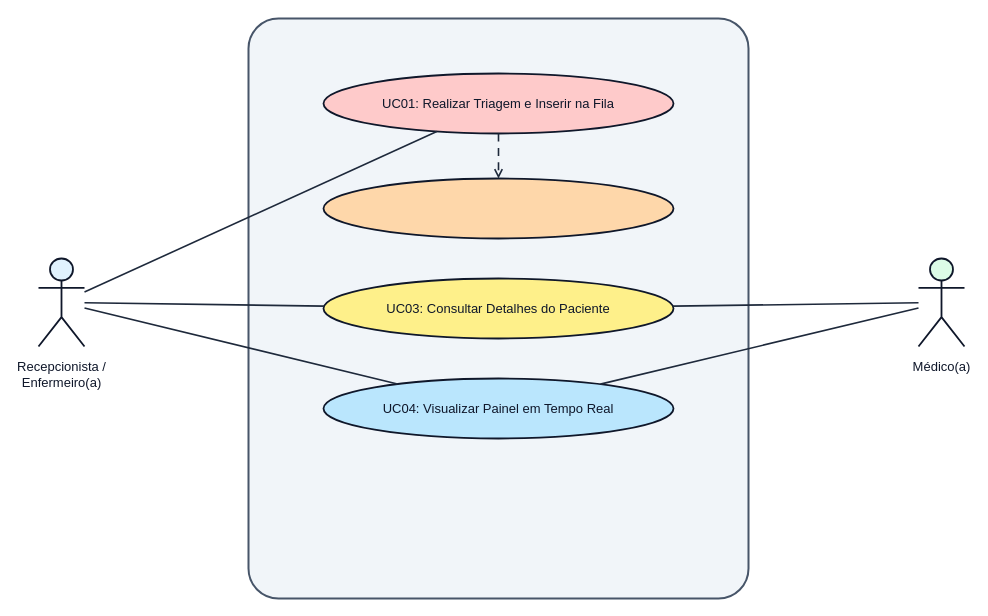
Some shapes in this 988 by 616 pixel diagram are drawn without their labels. The shapes that lost their labels are listed below. From the top down, each one's box as (x1, y1, x2, y2) in pixels, then its label:
(322, 177, 674, 239): UC02: Ordenar Fila Automaticamente
(247, 17, 749, 599): Sistema SIGAE
